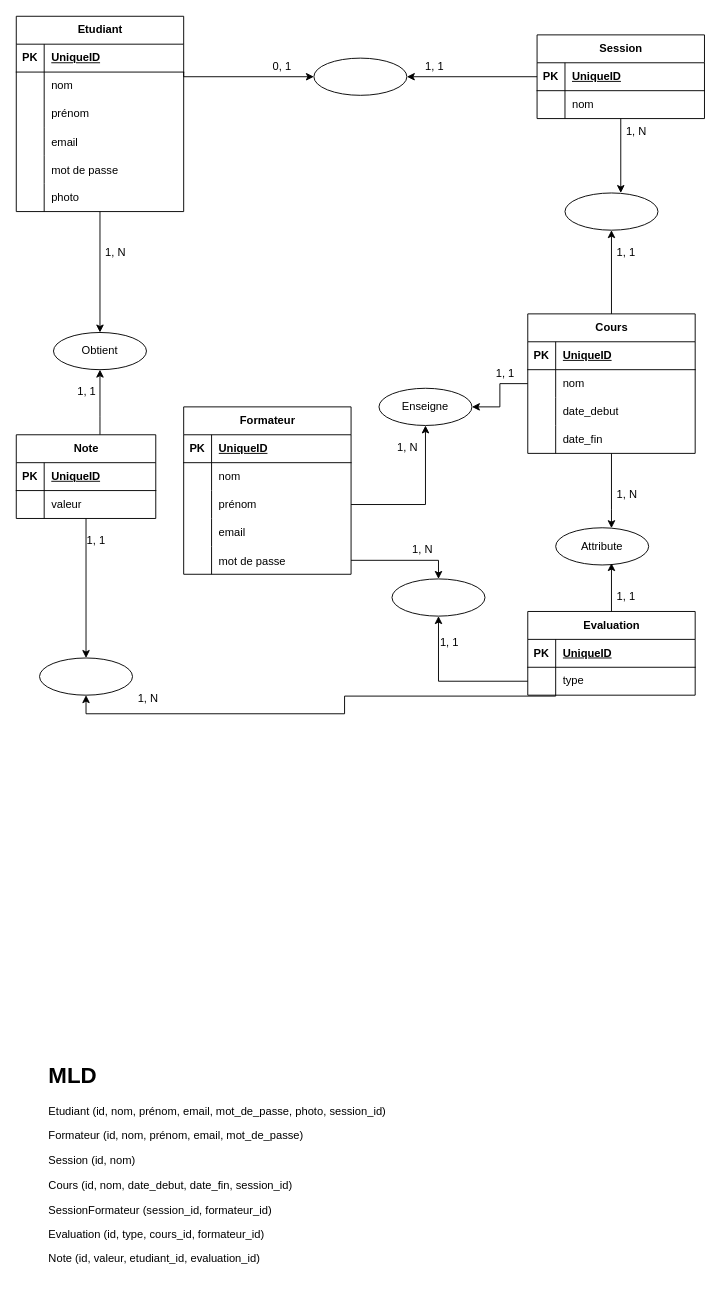
Image size: 721x1297. Some labels were removed from this diagram. Each missing label, with the centre of its shape:
Crée: point (438, 597)
Fait partie de: point (611, 211)
Inscrit dans: point (360, 76)
Résulte de: point (86, 676)
